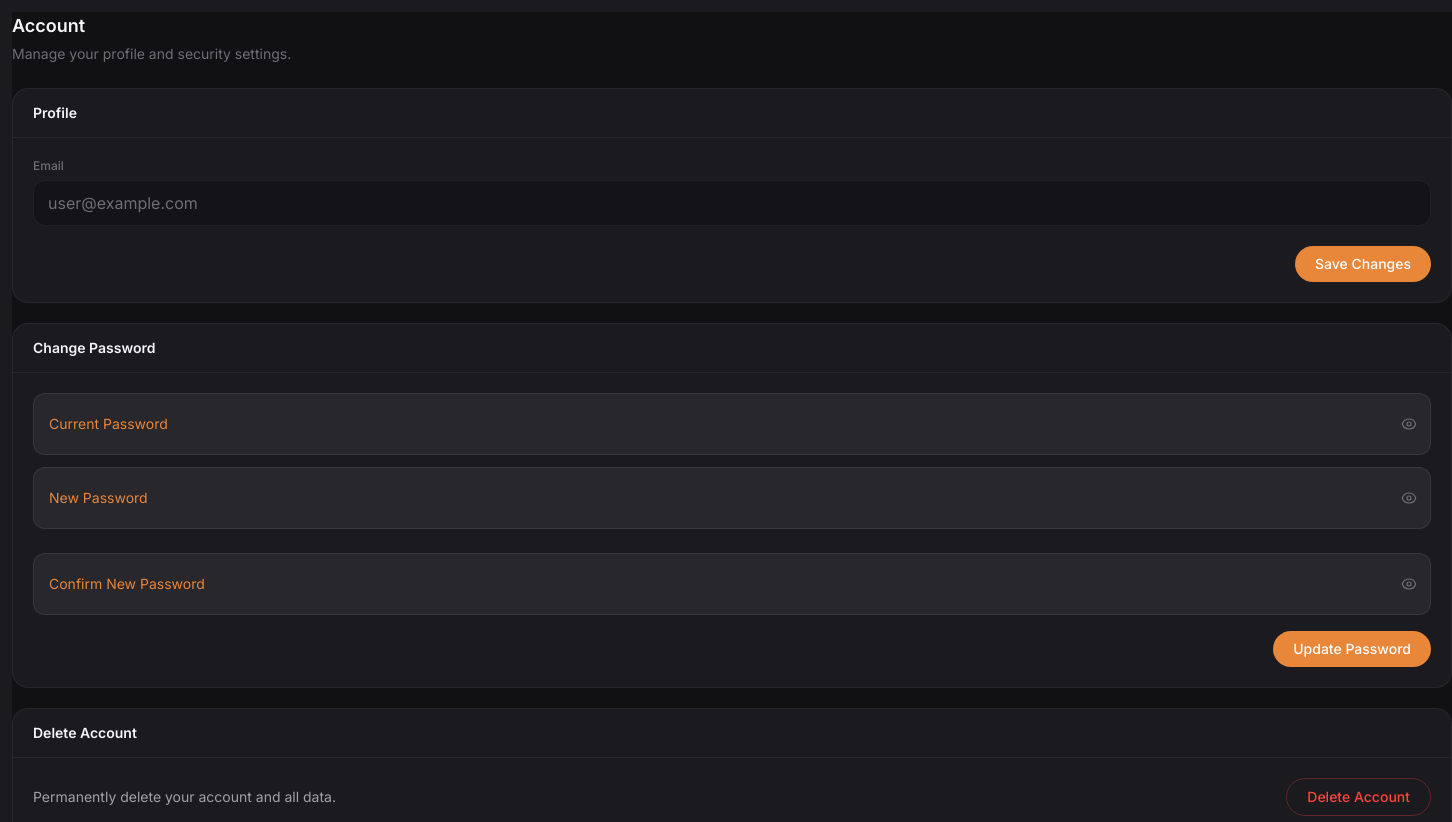
Test: AccountTab — Change Password validation › shows error when new password requirements not met
Step 1. Type "current123" into the password field labelled "Current Password" → x=732, y=424, box [33,393,1431,455]
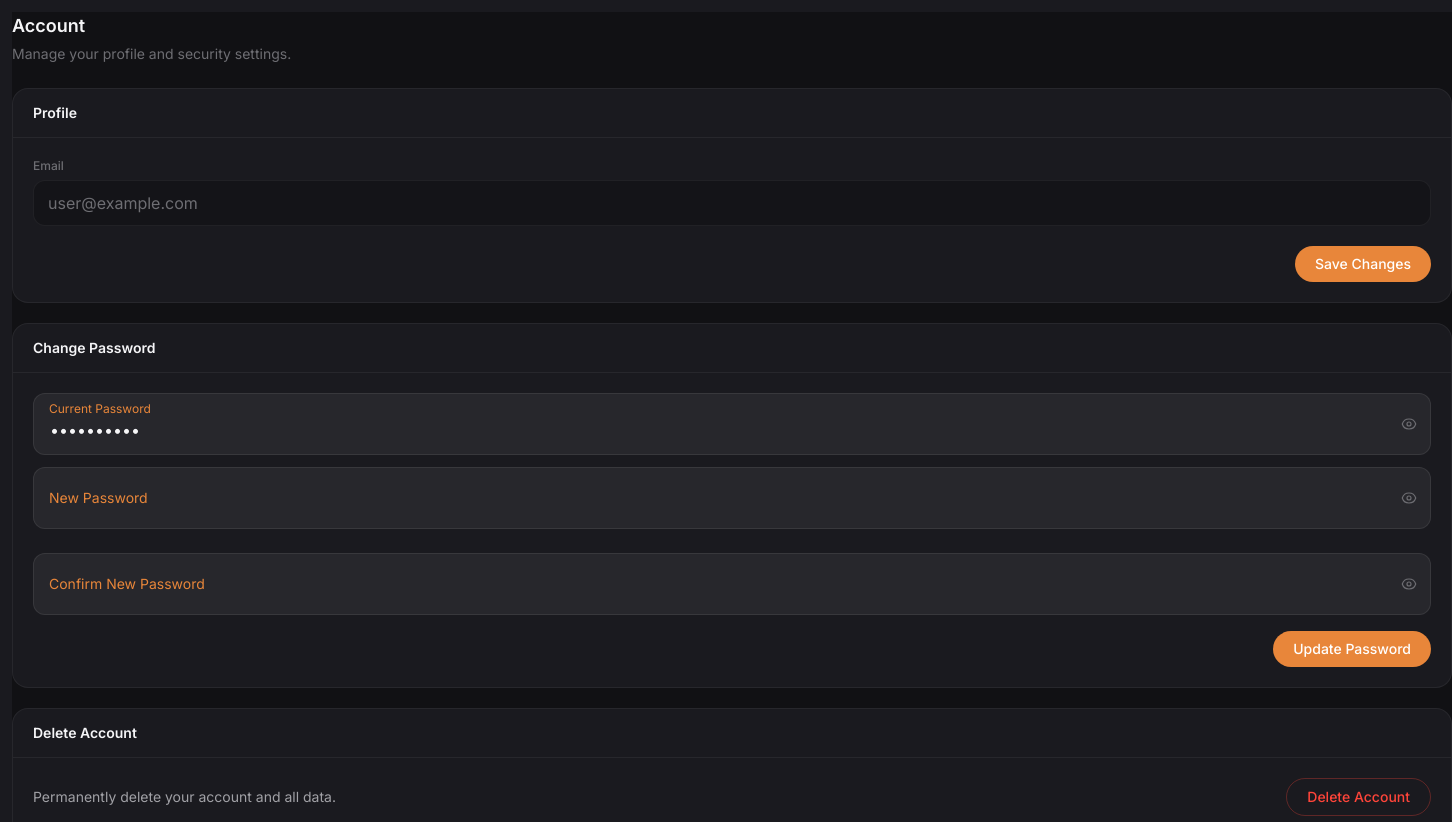
Step 2. Click the button "Update Password" → x=1352, y=649, box [1273,631,1431,667]
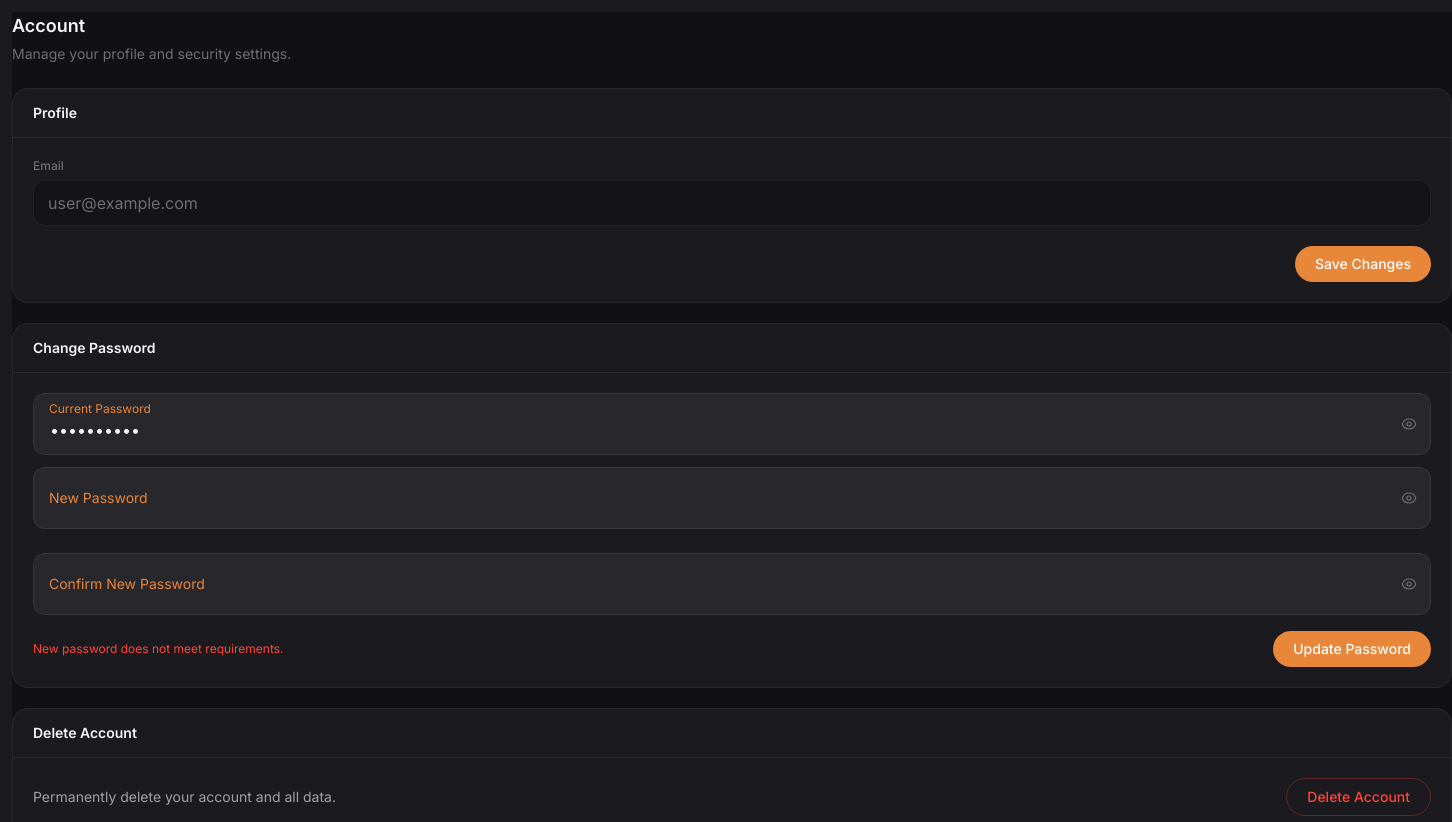
Now the text "New password does not meet requirements." is shown, box [33,641,284,657]
